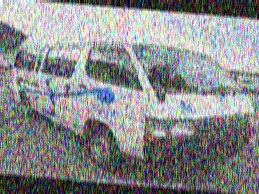van: (3, 25, 258, 174)
